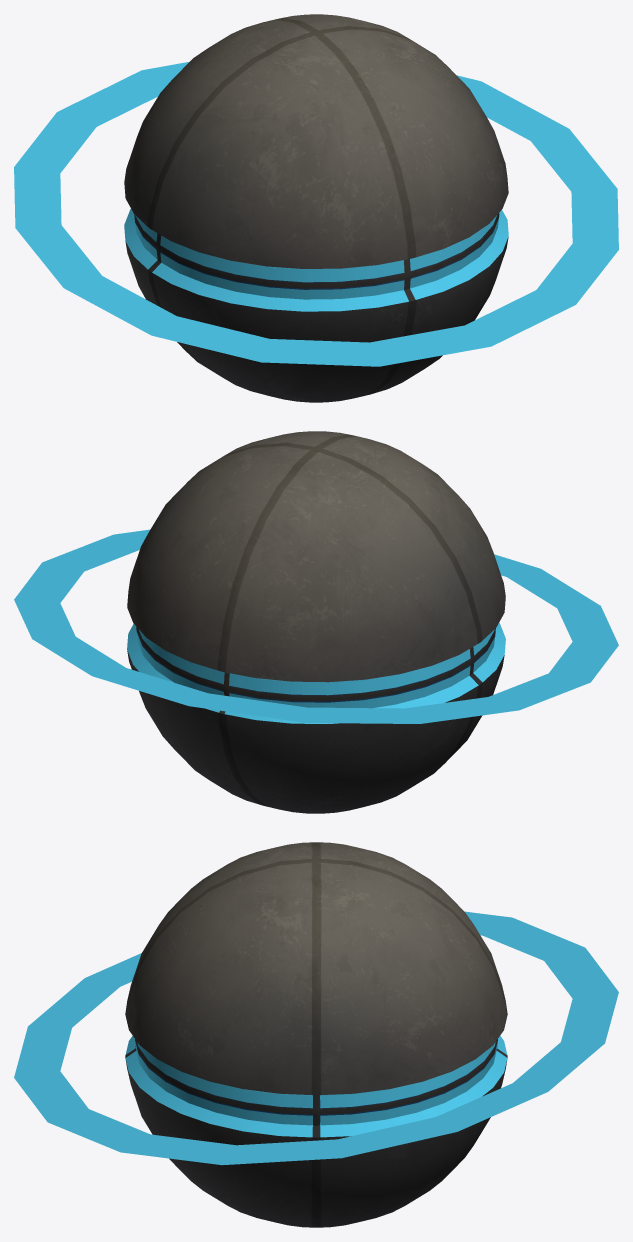
File: Planet.fbx
3 views of the same model, one above another, from view 1: azimuth 30°, elevation 25°; view 2: azimuth 150°, elevation 25°; view 3: azimuth 270°, elevation 25° (orthographic).
Parts seen in each view (by area): view 1: BézierCircle.009, BézierCircle.010; view 2: BézierCircle.009, BézierCircle.010; view 3: BézierCircle.009, BézierCircle.010.
Part boxes in pixels (bbox=[...]): BézierCircle.009: bbox=[124, 14, 508, 402]; BézierCircle.010: bbox=[14, 61, 618, 366]; BézierCircle.009: bbox=[127, 431, 505, 813]; BézierCircle.010: bbox=[14, 529, 618, 723]; BézierCircle.009: bbox=[125, 842, 507, 1227]; BézierCircle.010: bbox=[14, 911, 618, 1165].
Size of the model in its own units: 316 by 200 by 313.
2 materials, 1 textured.
